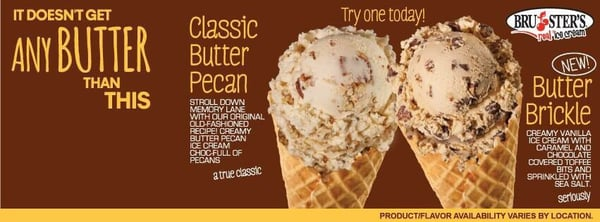salad: (268, 25, 400, 206)
